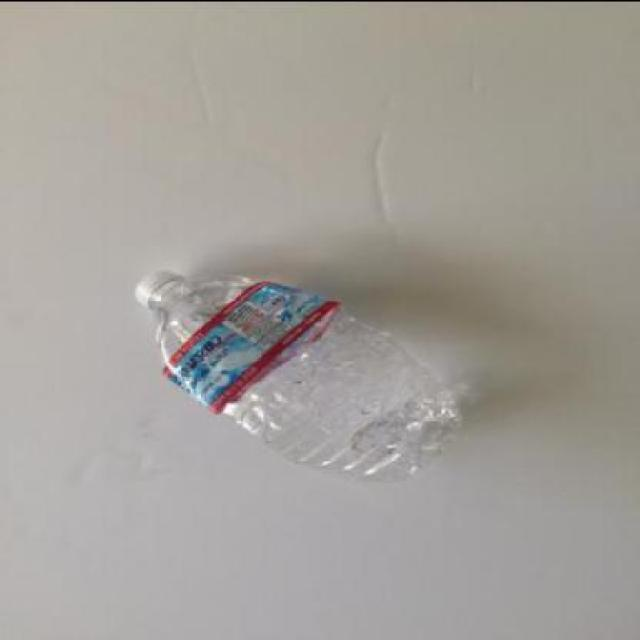PLASTIC: (135, 270, 467, 482), (162, 281, 343, 416), (136, 270, 184, 308)
